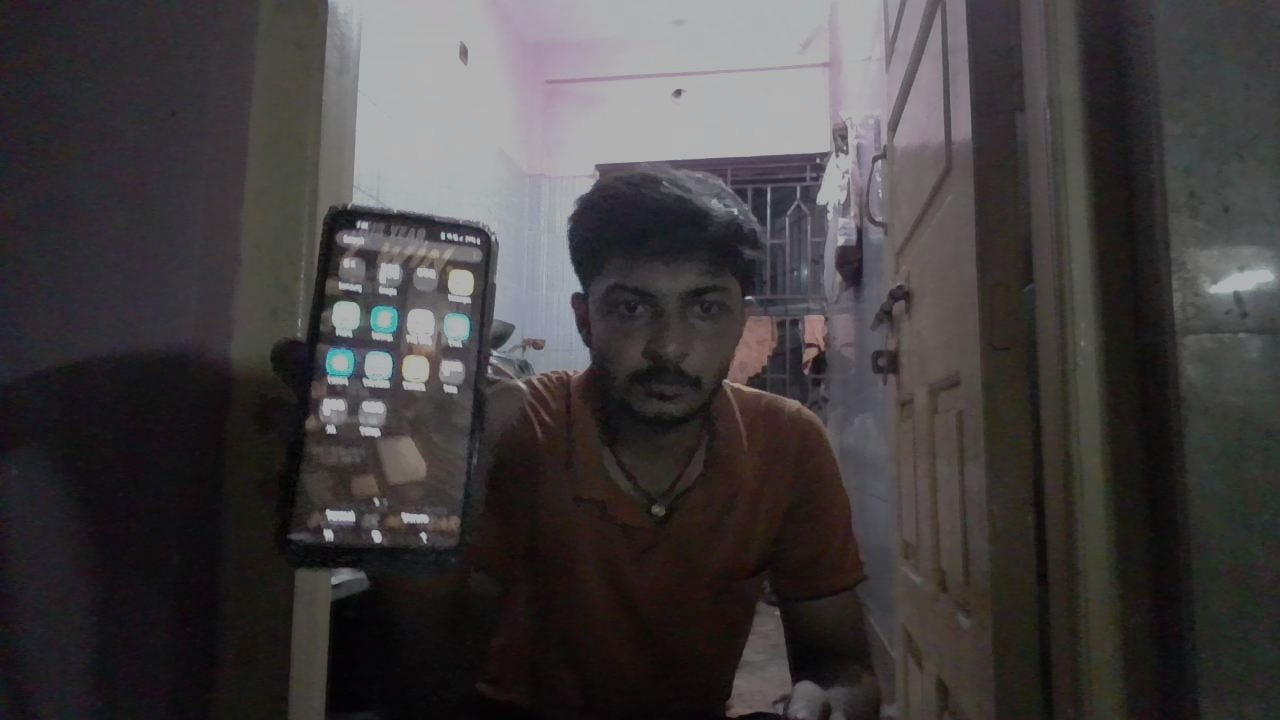red_box: (699, 404, 862, 588), (578, 431, 649, 528)
